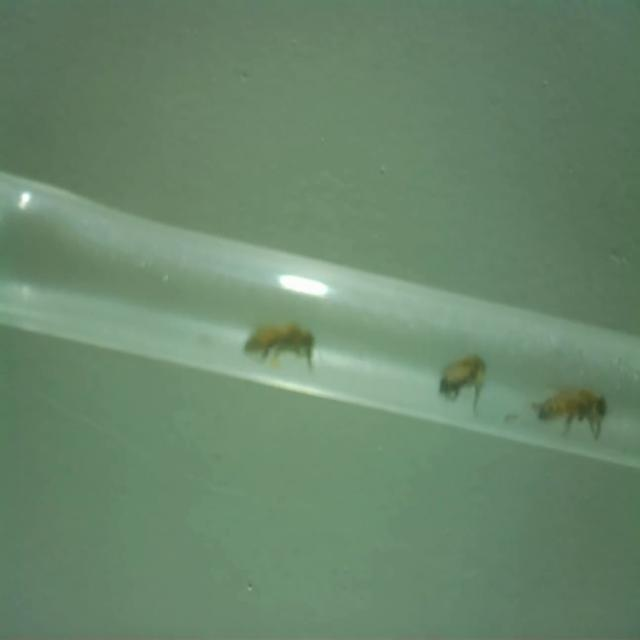Honeybee-Detection: (242, 304, 318, 371), (532, 387, 609, 440), (439, 352, 486, 413)
